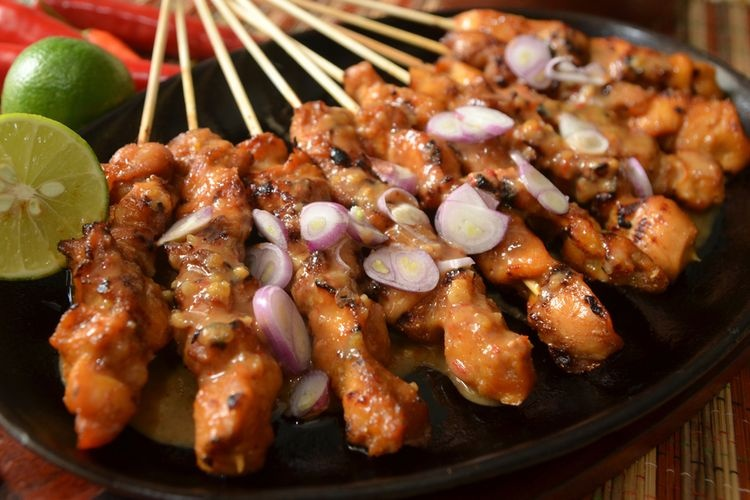sate_madura: (72, 1, 750, 469)
